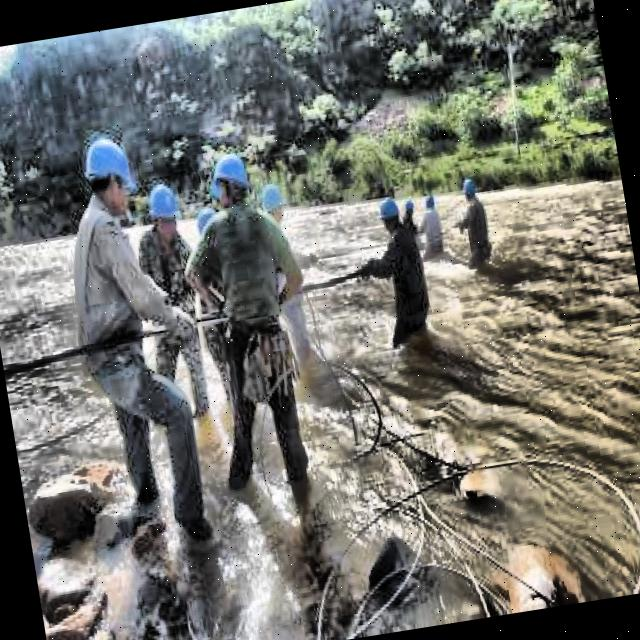helmet: (75, 127, 142, 226), (208, 146, 255, 210), (143, 180, 185, 242), (254, 178, 291, 232), (375, 194, 405, 238), (456, 173, 479, 206), (421, 188, 438, 218)
